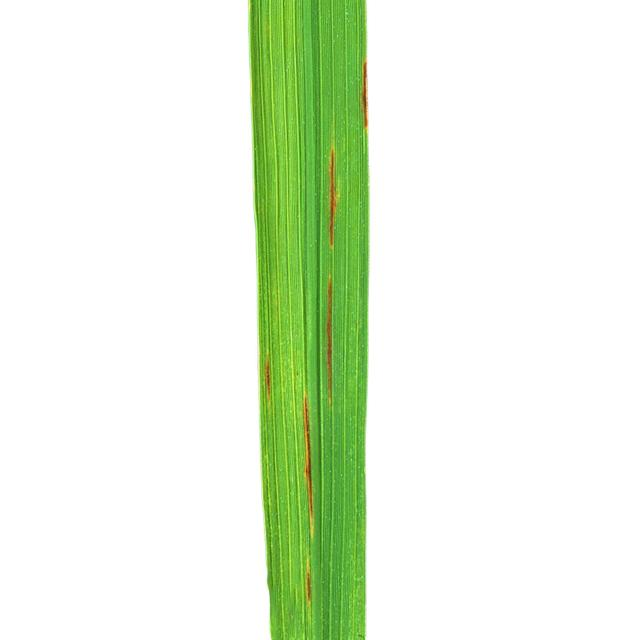Narrow brown: (175, 0, 406, 640)
